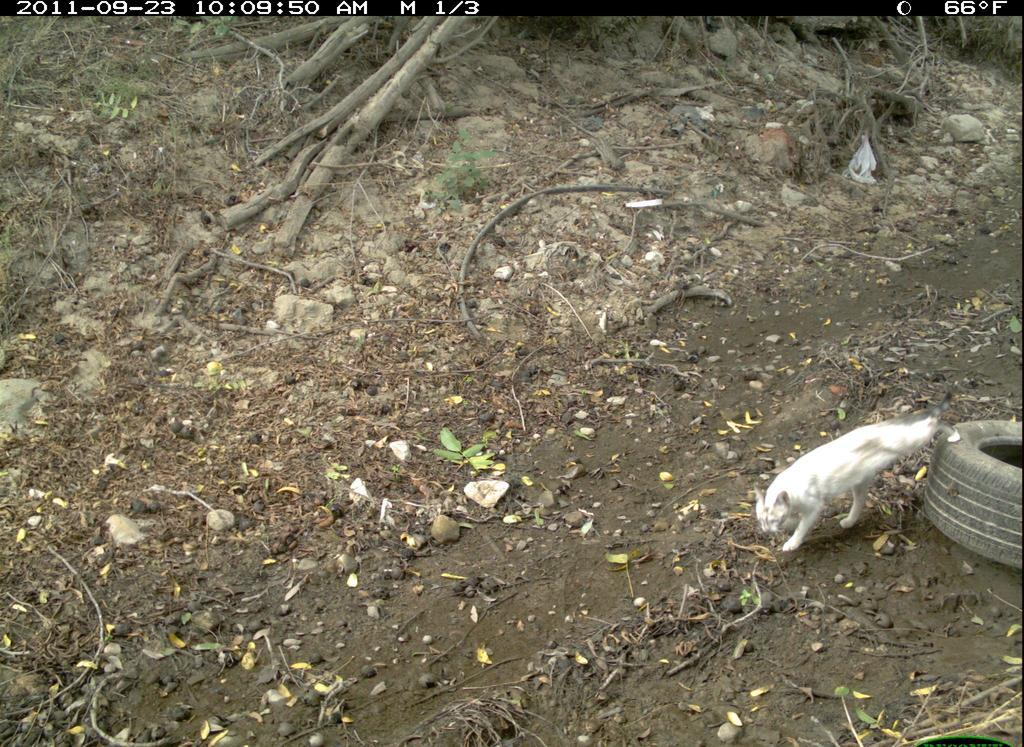cat: (747, 395, 971, 557)
